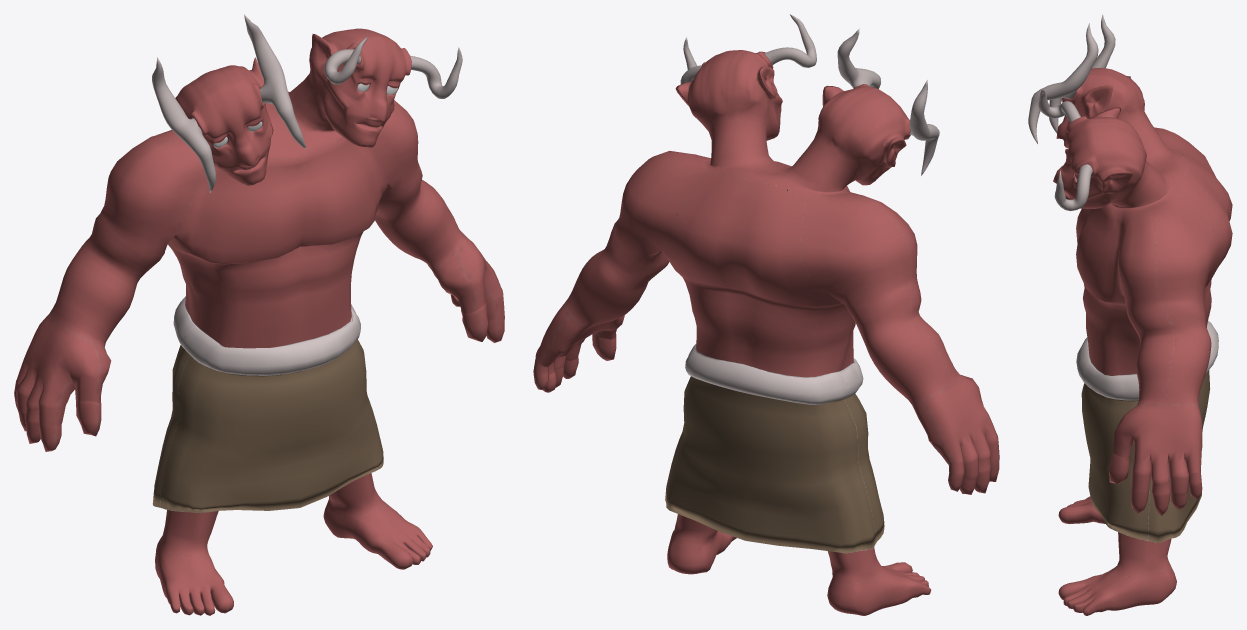
The model's file is Red_Oni.fbx.
The picture shows the model from 3 angles, left to right: view 1: azimuth 30°, elevation 25°; view 2: azimuth 150°, elevation 25°; view 3: azimuth 270°, elevation 25°; orthographic projection. The views are drawn at different scales.
Visible parts, largest first — view 1: pCylinder28; view 2: pCylinder28; view 3: pCylinder28.
Boxes of the visible parts, left/top/right/bottom form: pCylinder28: left=14, top=14, right=504, bottom=615; pCylinder28: left=533, top=14, right=999, bottom=615; pCylinder28: left=1028, top=14, right=1232, bottom=615.
Bounding box in the file's own units: 15.94 × 18.93 × 6.81.
